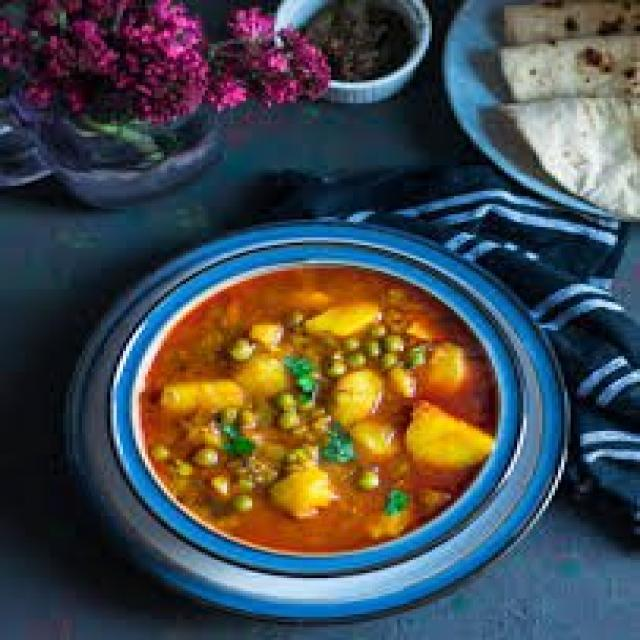aloo_matar: (153, 258, 526, 547)
